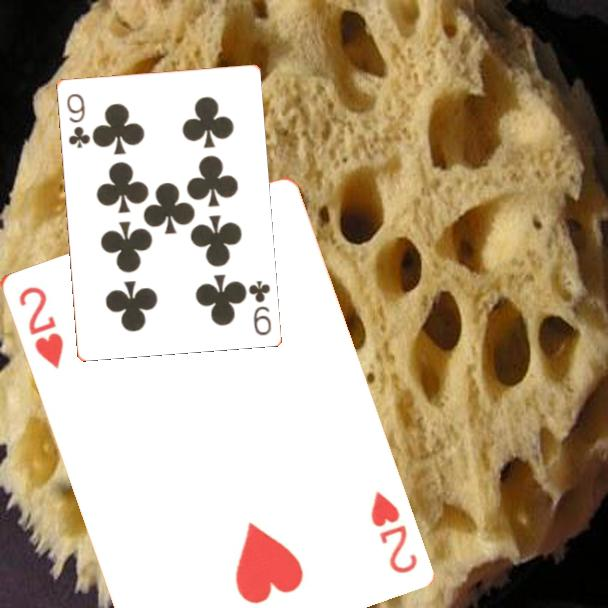c09: (245, 276, 274, 338), (63, 90, 92, 151)
h02: (366, 487, 420, 576), (14, 282, 66, 372)
